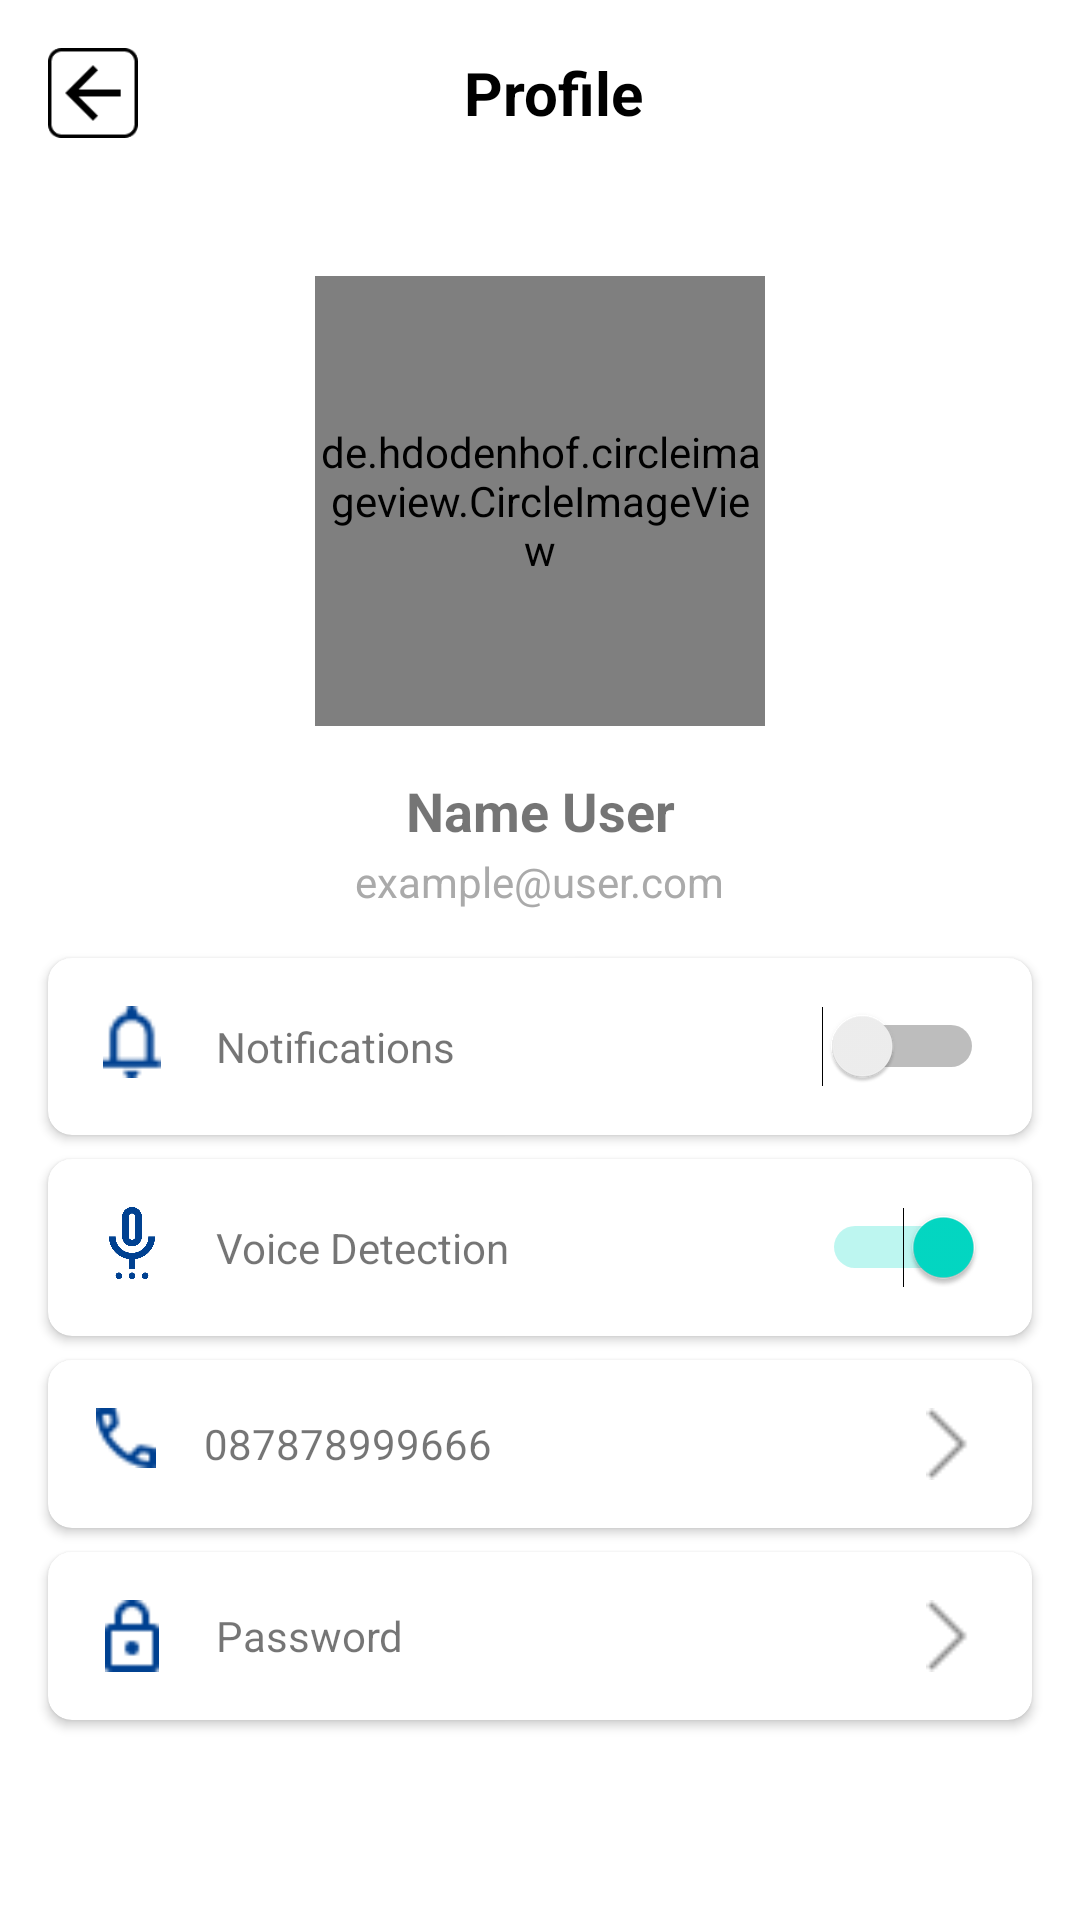

Screen size 1080px×1920px. Icon name, then its center in pixels as [x,y]:
arrow: [946,1444], [946,1636]
Back: [93,93]
mic: [132,1243]
notif biru: [132,1042]
pass biru: [132,1636]
phone biru: [126,1438]
